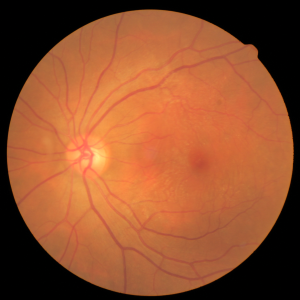retina_disease: (39, 111, 243, 217)
